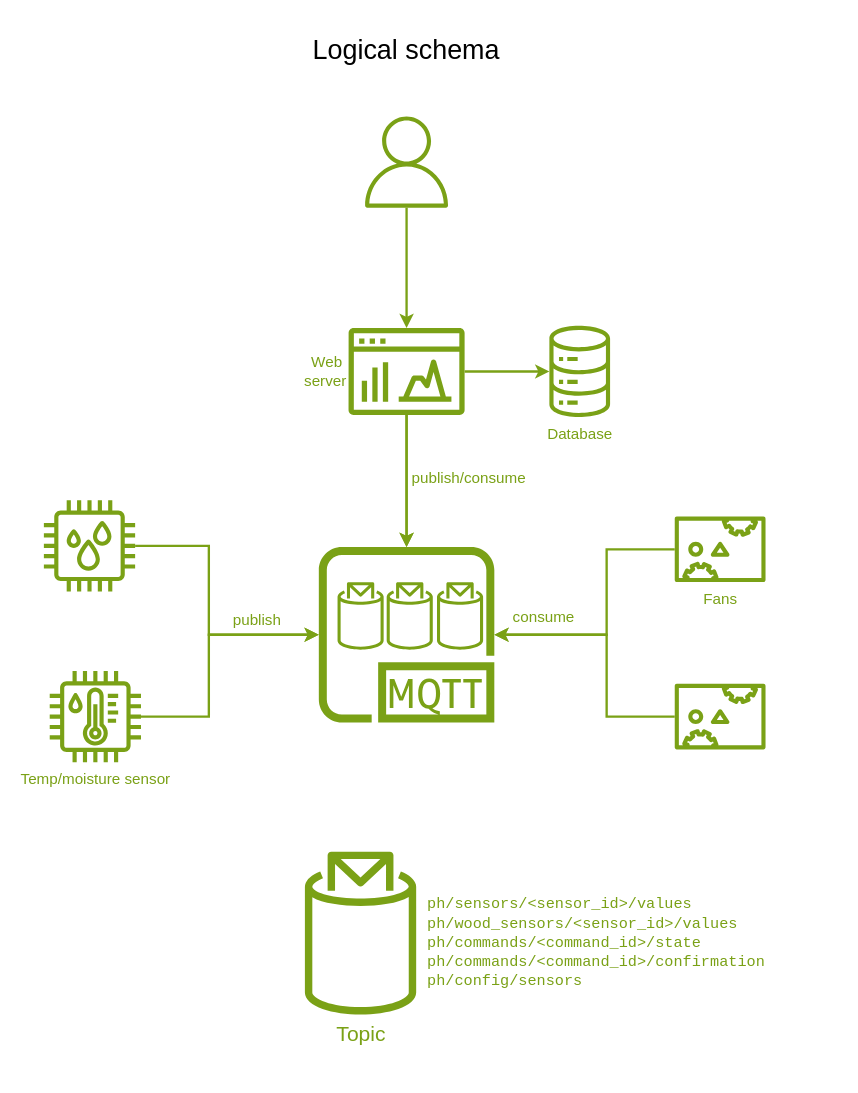
The diagram is 858 pixels wide and 1093 high, and some of its shapes have lost their labels. The centre of each missing label's shape, as x and y in pixels:
Pipes: the point at 719,716
Wood moisture sensor: the point at 89,545
